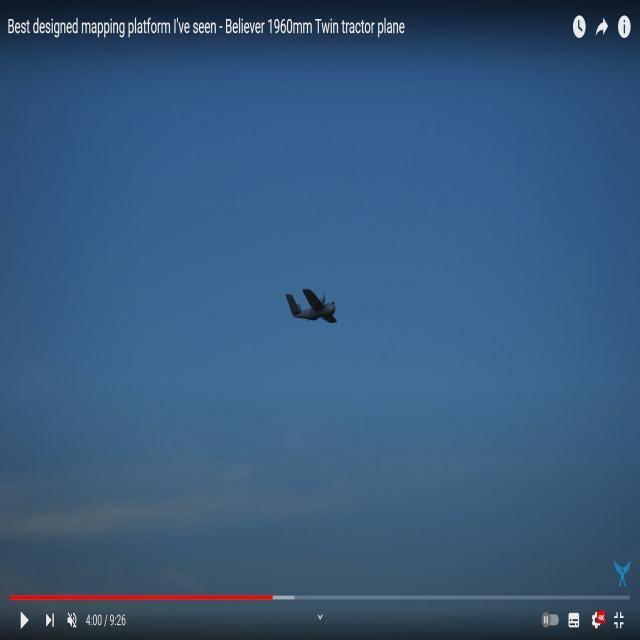iha: (286, 290, 339, 323)
